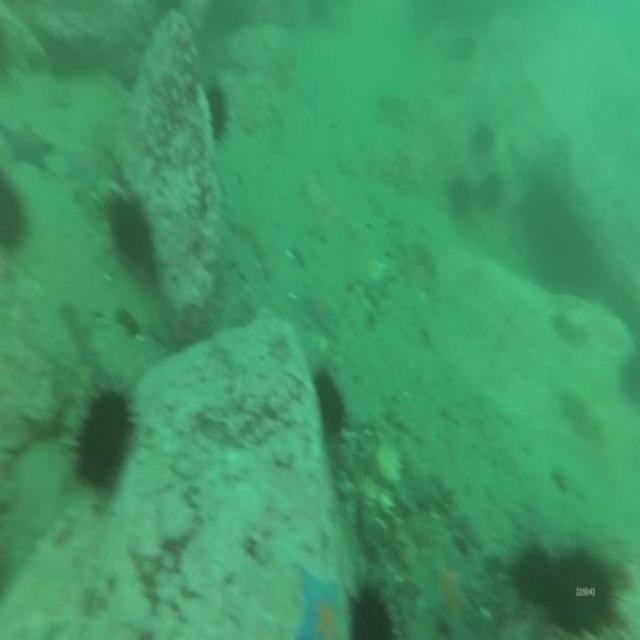echinus: (55, 384, 135, 503), (546, 542, 620, 638), (507, 534, 557, 616), (339, 577, 402, 640), (107, 191, 152, 272), (312, 362, 348, 446), (0, 168, 31, 260), (203, 79, 230, 145), (444, 167, 474, 226), (614, 344, 640, 411), (43, 33, 78, 82), (478, 163, 508, 212), (468, 119, 500, 162), (450, 30, 477, 66)
starfish: (418, 542, 484, 631), (286, 553, 347, 640), (0, 118, 57, 182), (59, 142, 108, 191), (299, 289, 342, 340)
